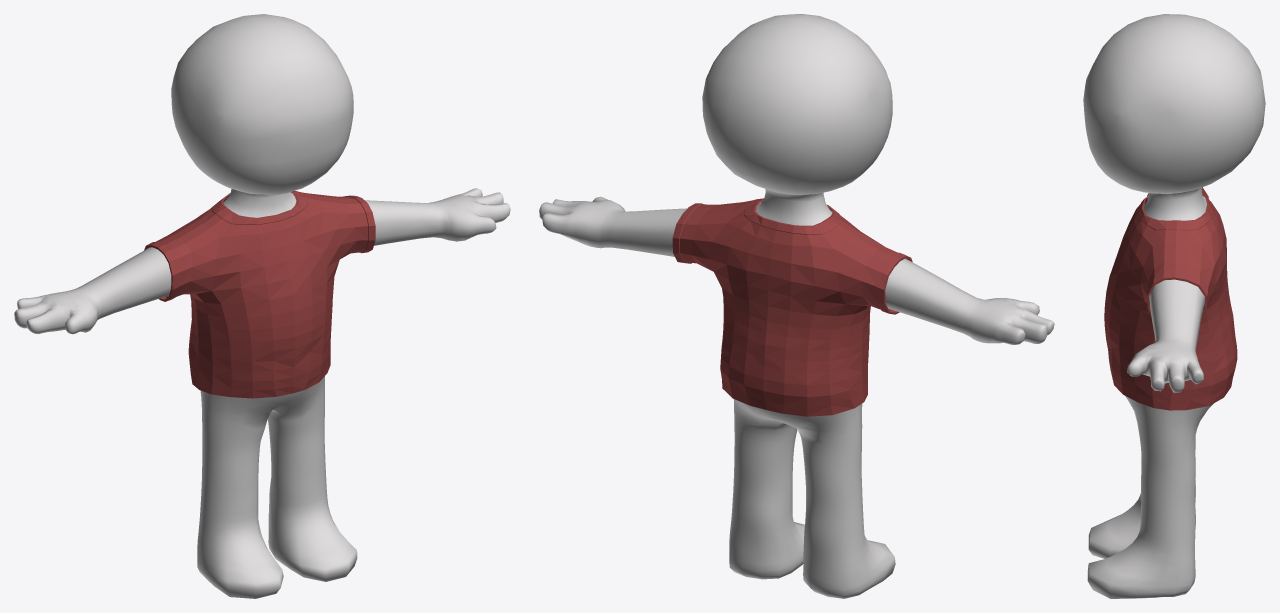
The model's file is SM_CustomerPlayerModel.fbx.
The picture shows the model from 3 angles, left to right: view 1: azimuth 30°, elevation 25°; view 2: azimuth 150°, elevation 25°; view 3: azimuth 270°, elevation 25°; orthographic projection. The views are drawn at different scales.
Visible parts, largest first — view 1: Body, Shirt; view 2: Body, Shirt; view 3: Body, Shirt.
Boxes of the visible parts, x1,y1,x2,y2 form: Body: (14, 14, 510, 598); Shirt: (144, 190, 375, 398); Body: (539, 14, 1054, 598); Shirt: (672, 198, 912, 416); Body: (1083, 14, 1265, 598); Shirt: (1104, 187, 1237, 410).
Size of the model in its own units: 18.15 by 19.16 by 5.8.
